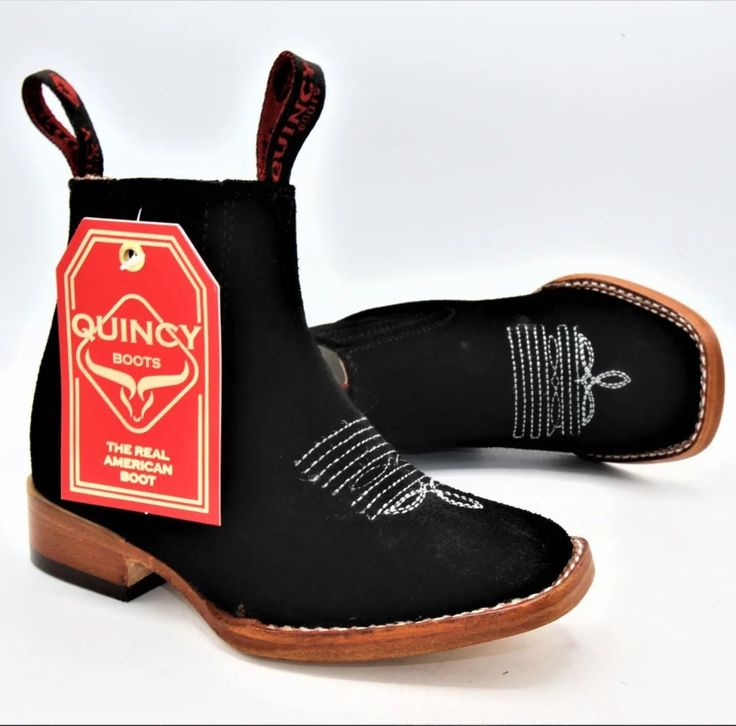gamuza: (29, 176, 705, 630)
